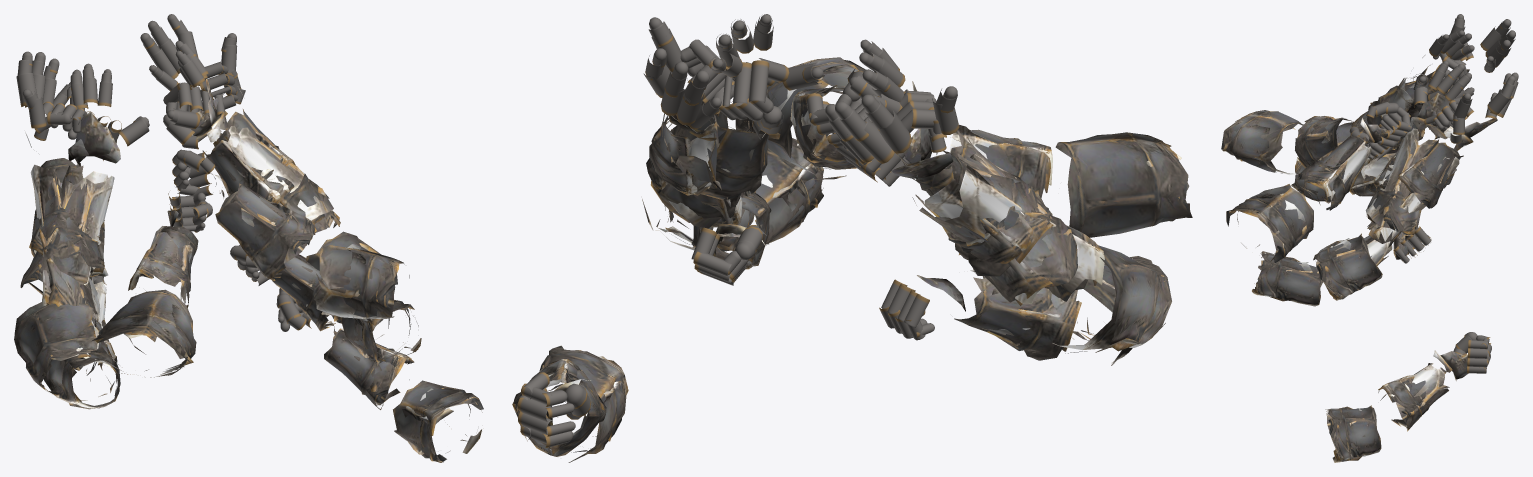
The model's file is gauntlets_t_pale.glb.
The picture shows the model from 3 angles, left to right: view 1: azimuth 30°, elevation 25°; view 2: azimuth 150°, elevation 25°; view 3: azimuth 270°, elevation 25°; orthographic projection. The views are drawn at different scales.
Visible parts, largest first — view 1: spell_attack, arms_2h, spell_raise, arms_staff, arms_1h; view 2: spell_attack, spell_raise, arms_2h, arms_1h, arms_staff; view 3: arms_2h, spell_attack, spell_raise, arms_staff, arms_1h.
Part boxes in pixels (box(x1,y1,x2,y2)): spell_attack: box(14, 41, 397, 396); arms_2h: box(91, 149, 409, 377); spell_raise: box(16, 14, 340, 324); arms_staff: box(276, 288, 483, 462); arms_1h: box(44, 245, 421, 409); spell_attack: box(642, 14, 1171, 353); spell_raise: box(643, 17, 1104, 301); arms_2h: box(735, 57, 1192, 237); arms_1h: box(691, 138, 1156, 365); arms_staff: box(512, 345, 628, 462); arms_2h: box(1221, 101, 1411, 262); spell_attack: box(1313, 30, 1474, 300); spell_raise: box(1351, 14, 1518, 247); arms_staff: box(1325, 332, 1491, 462); arms_1h: box(1252, 152, 1456, 306).
Bounding box in the file's own units: 1.34 × 1.17 × 0.9813.
1 material, 1 textured.
